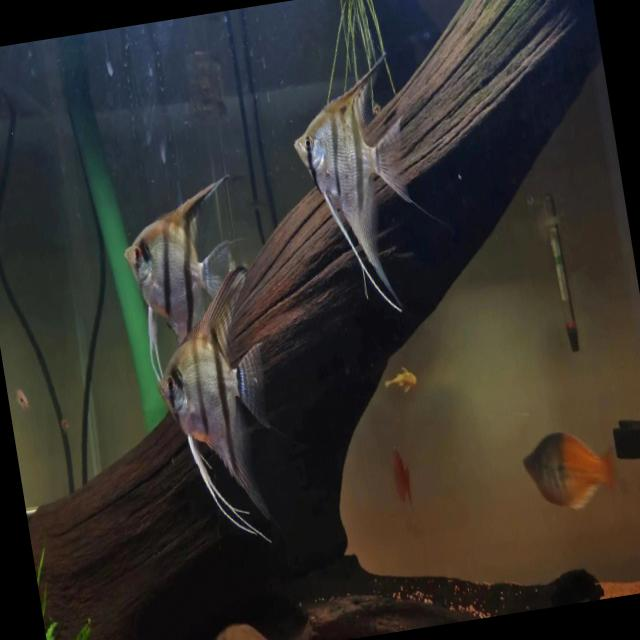AngelFish: (142, 263, 292, 563), (278, 56, 429, 330), (112, 171, 254, 366)
